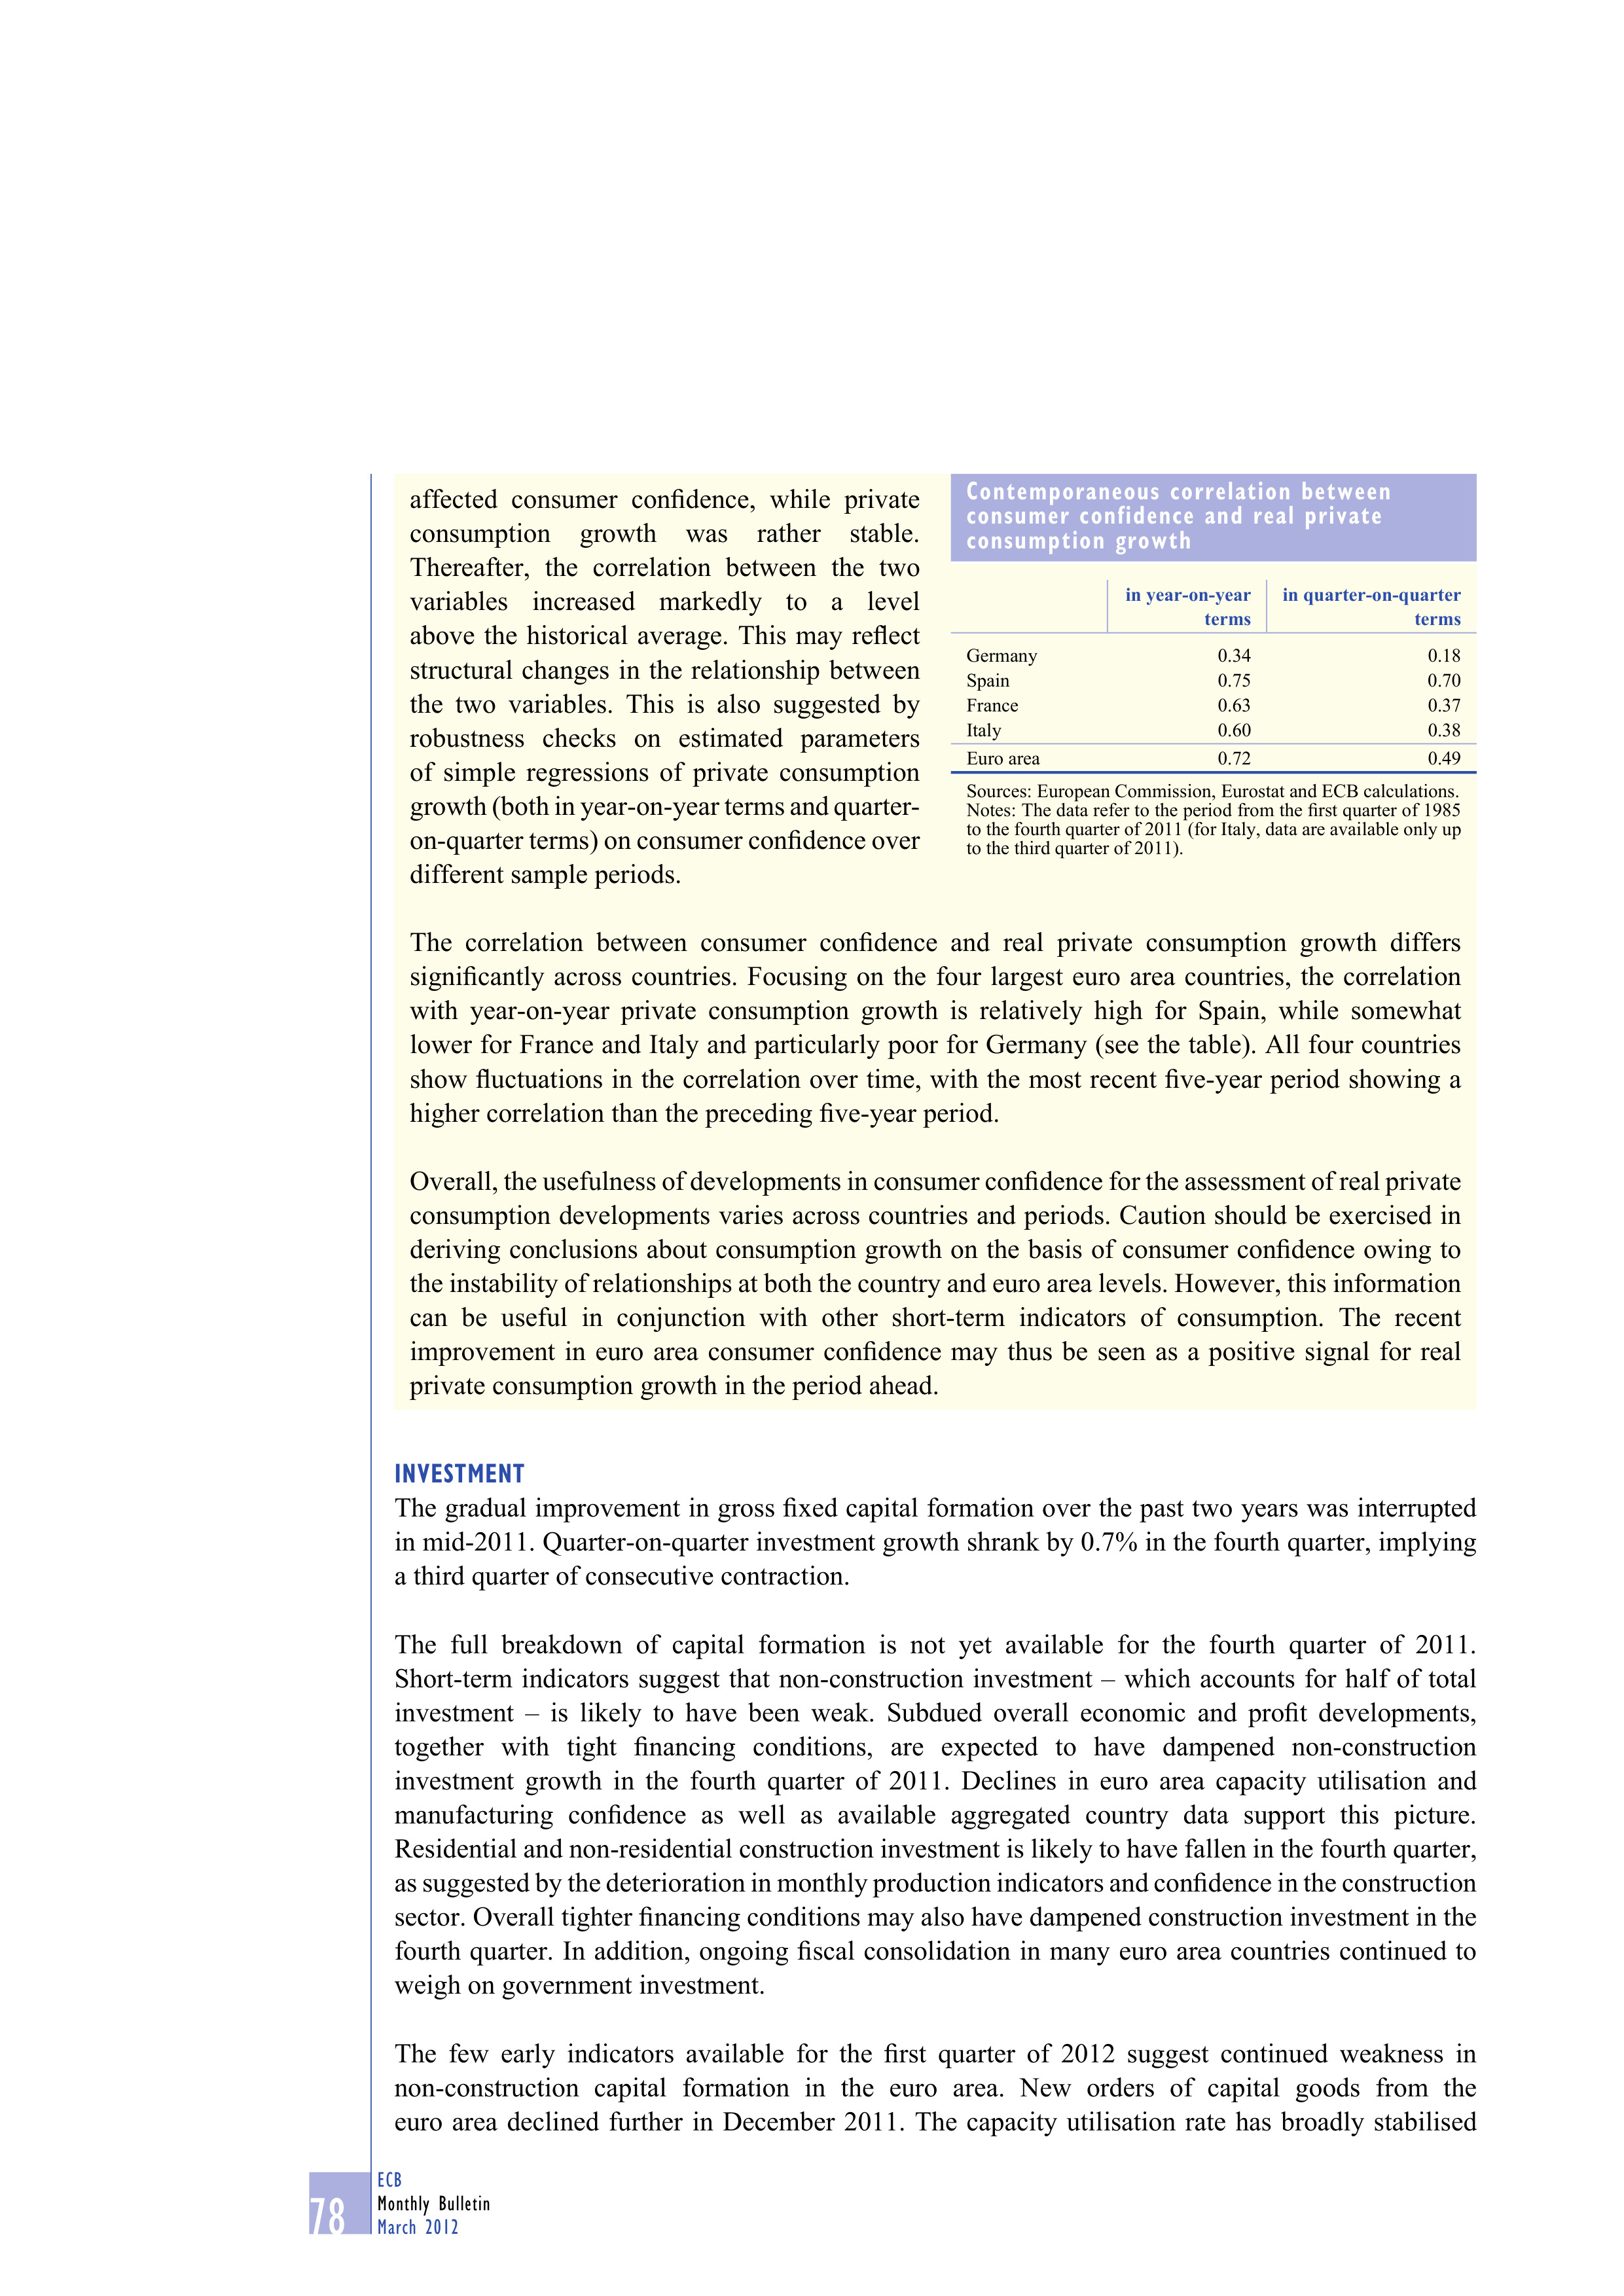table: (967, 585, 1461, 769)
